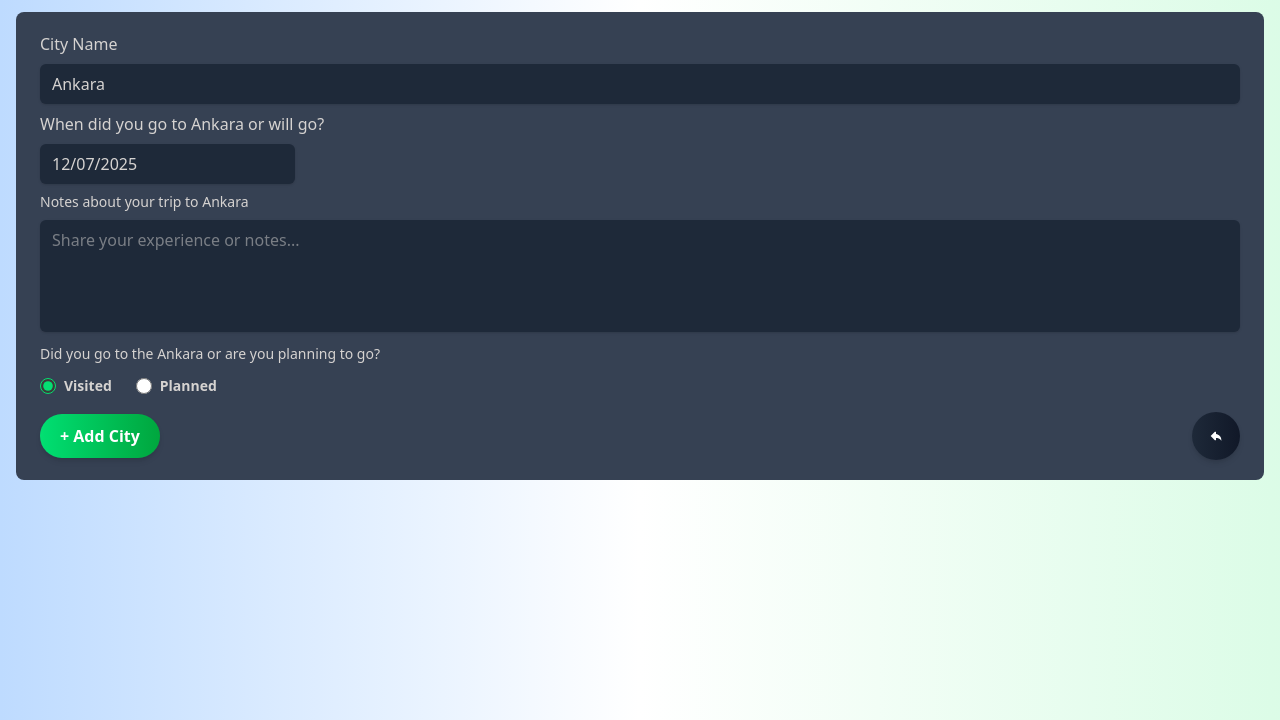
Form component › shows validation errors when fields are empty
The image size is (1280, 720).
Clear the field labelled "City Name". click: point(640, 84)
box: x1=40 y1=64 x2=1240 y2=104
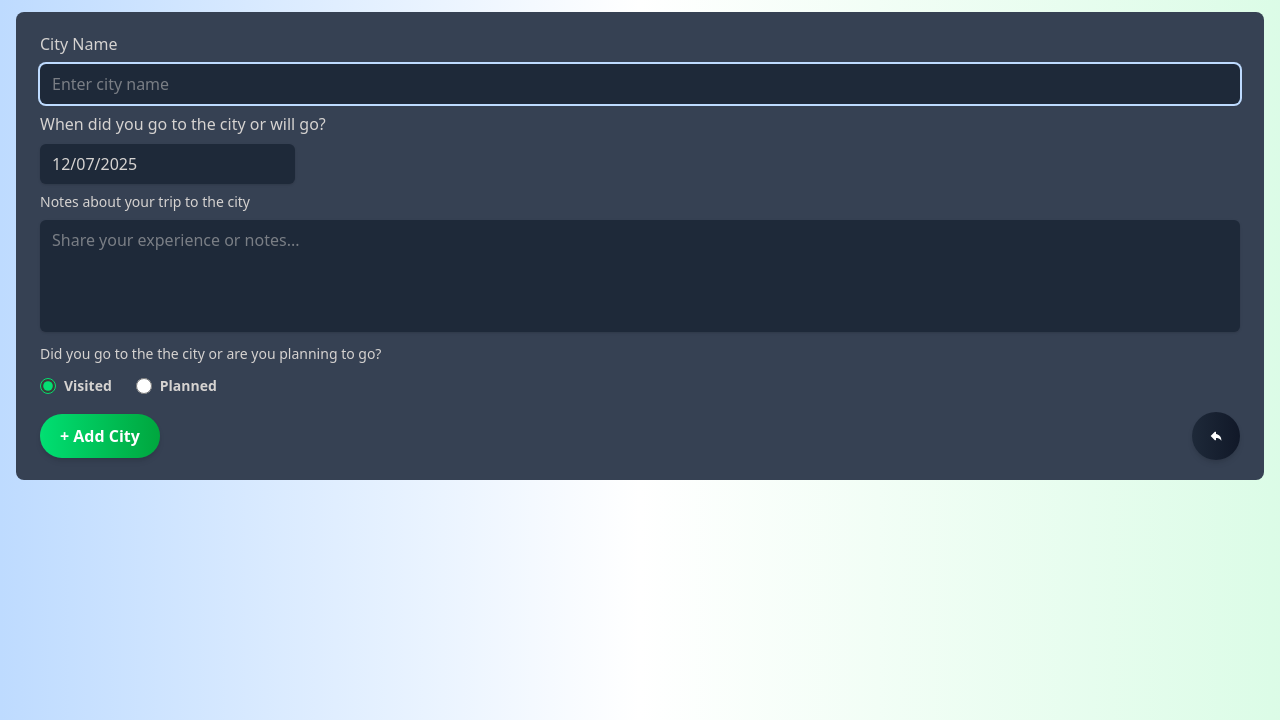
Click the button "+ Add City". click: point(100, 436)
box: x1=40 y1=414 x2=160 y2=458
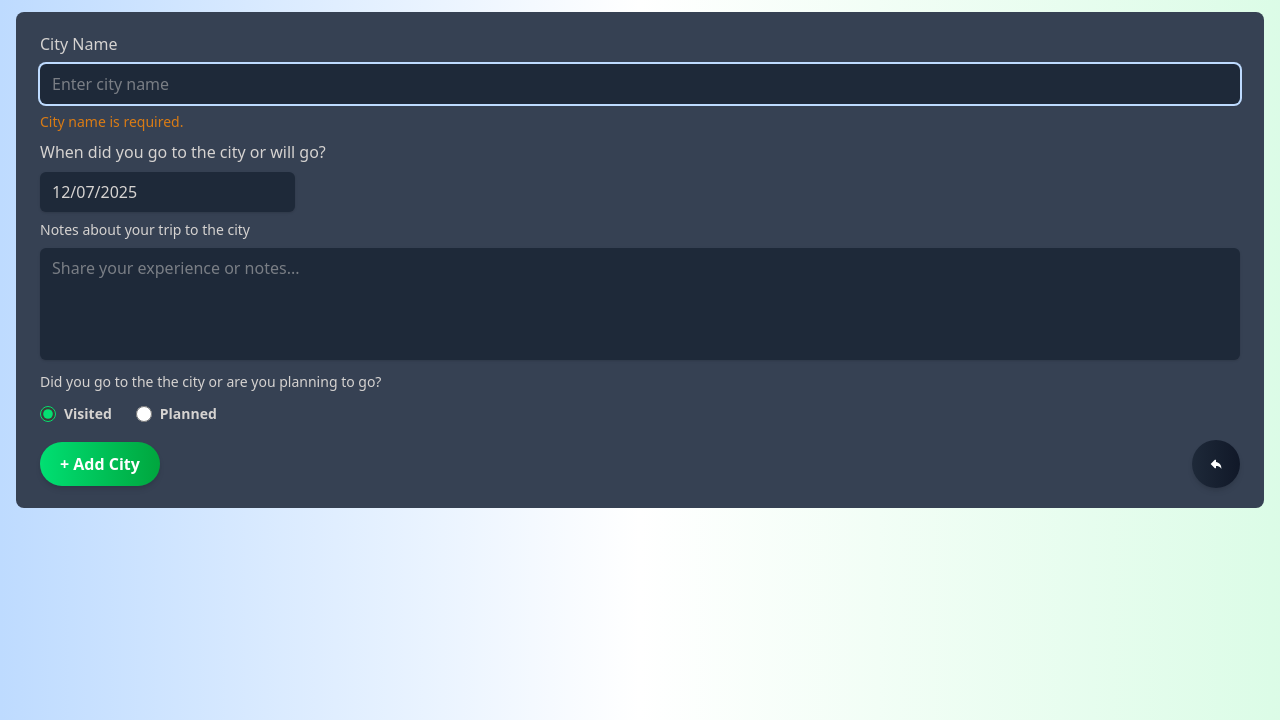
Expected: the text "City name is required." is shown, x1=40 y1=112 x2=183 y2=131
